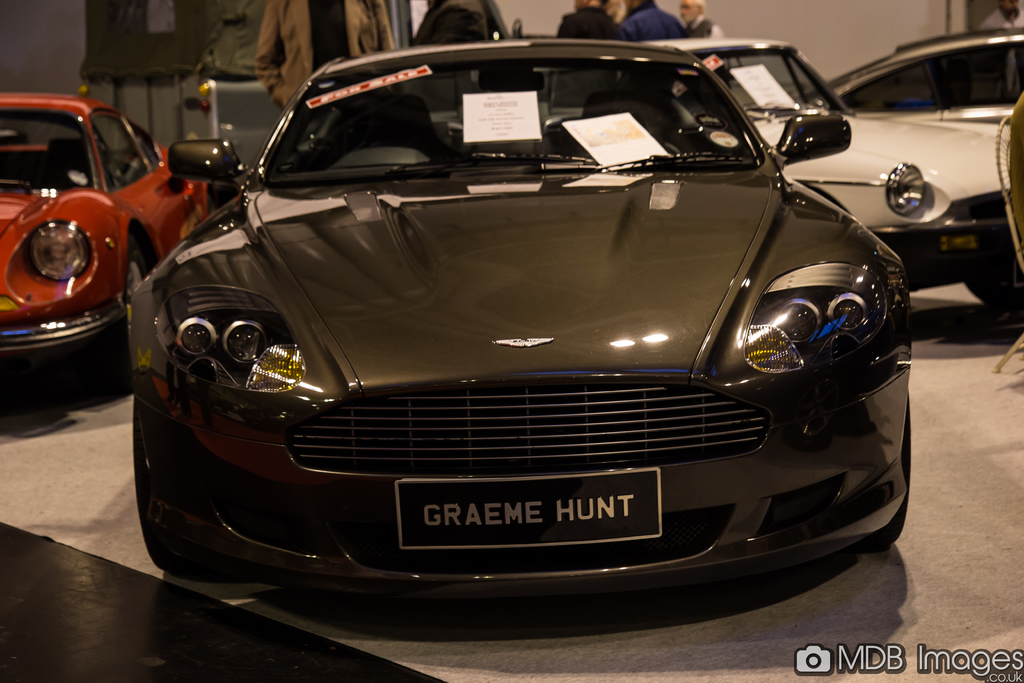cars: (118, 34, 919, 612), (435, 27, 1023, 328), (0, 90, 216, 386), (820, 20, 1023, 130)
